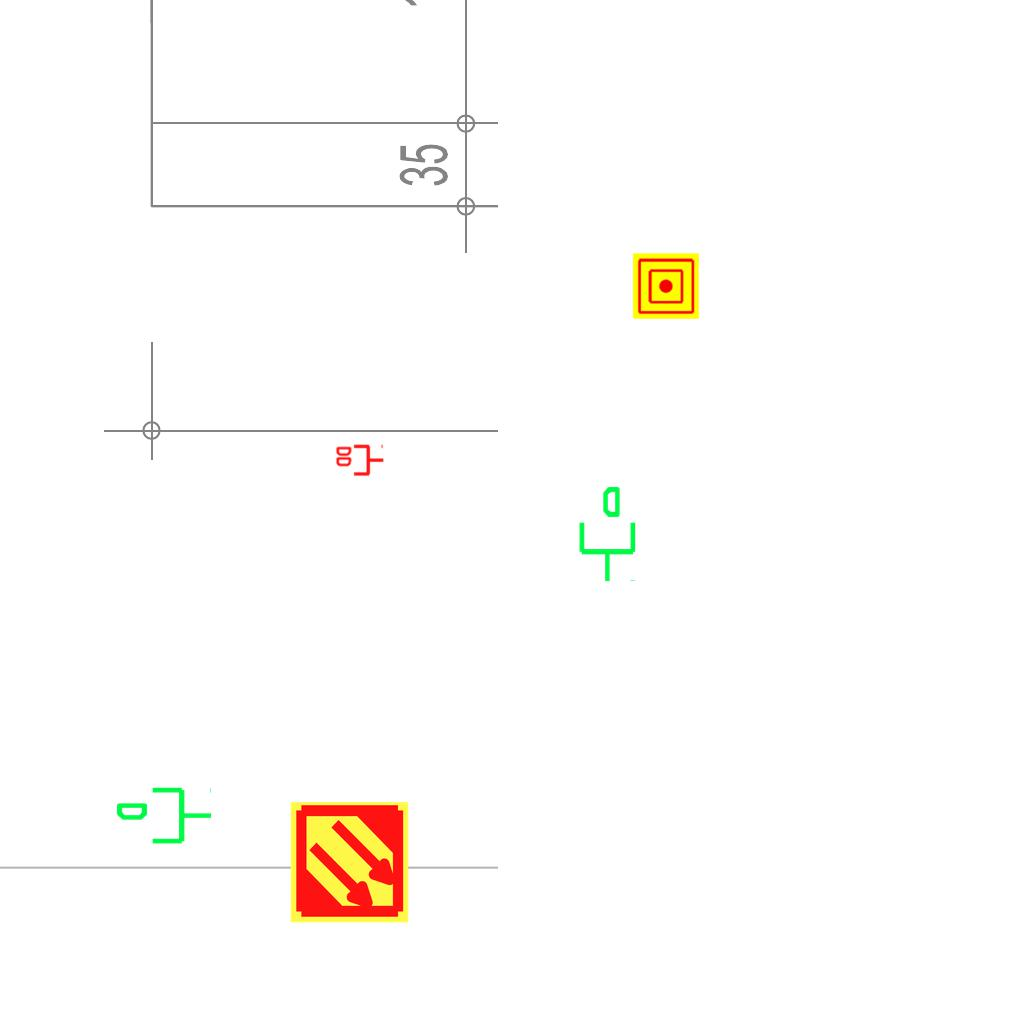ASR_Ansaugrauchmelder: (287, 800, 412, 925)
Datenanschluss_einfach: (114, 783, 214, 852), (571, 484, 640, 584)
Datenanschluss_zweifach: (334, 444, 385, 478)
NAM-Nichtautomatischer_Melder: (633, 253, 699, 319)
